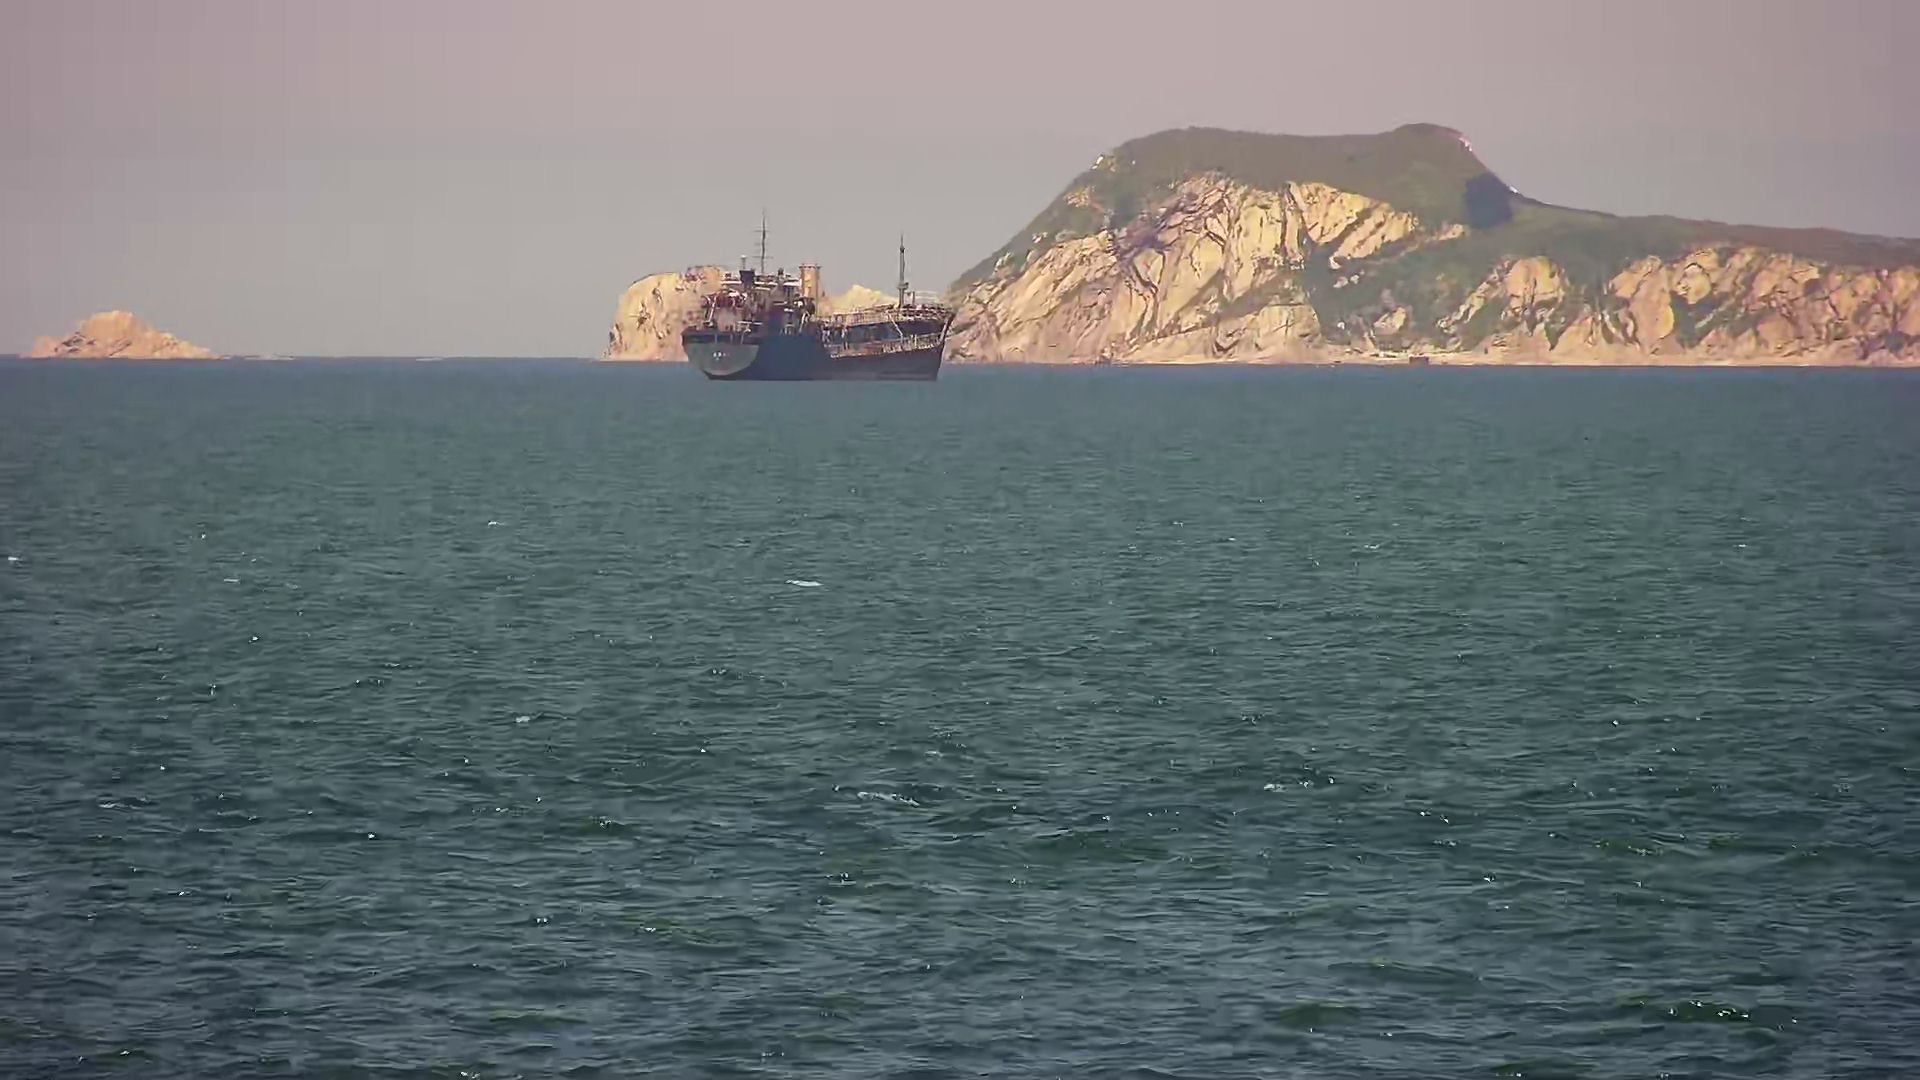rock: (597, 102, 1920, 367), (15, 303, 287, 363)
ship: (670, 204, 971, 384)
